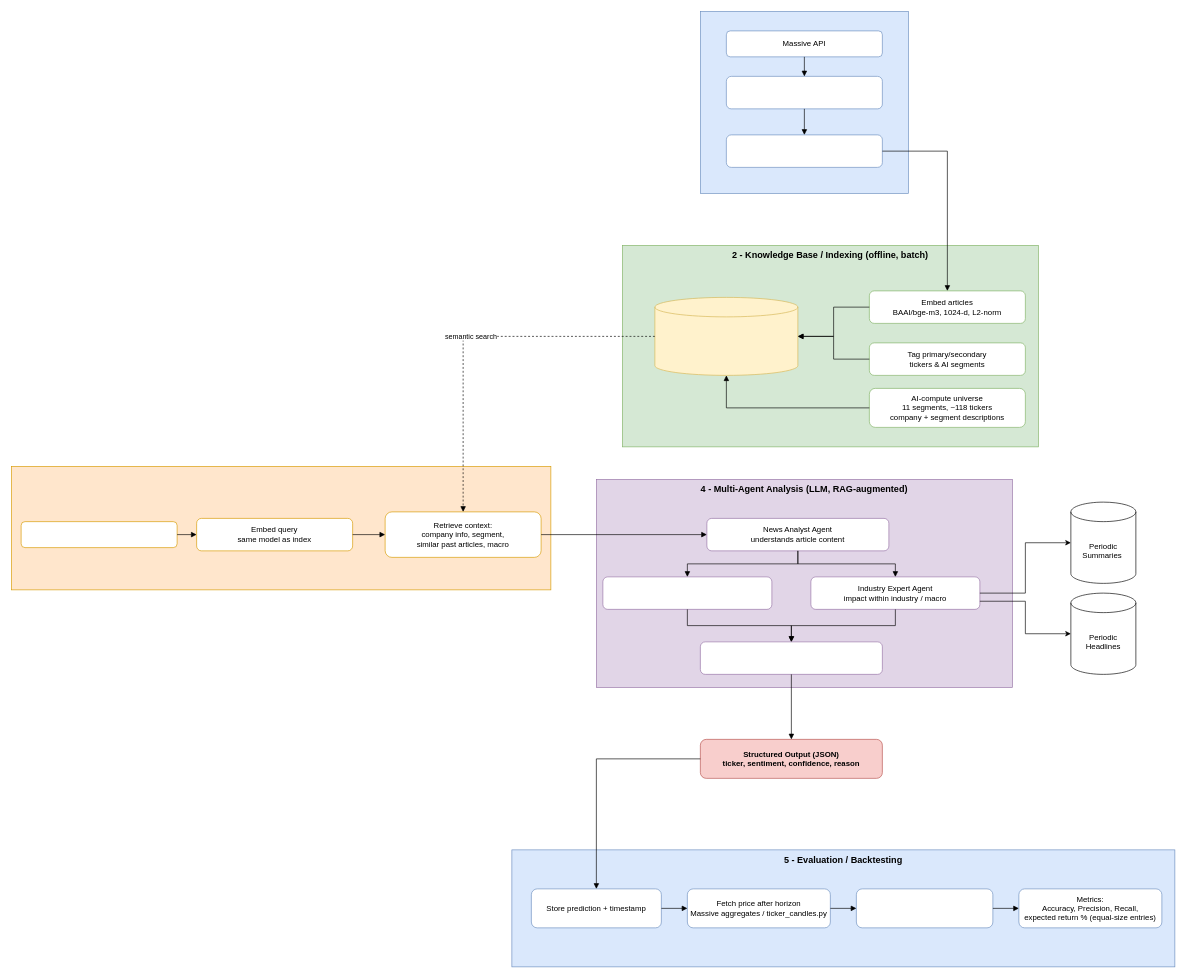
The diagram is 1186 pixels wide and 978 high, and some of its shapes have lost their labels. Here are the shapes that lost their labels. From the top down, the box of each, then its label:
(726, 76, 882, 109): News metadata CSV ticker, url, published_utc, sentiment
(700, 11, 908, 193): 1 - News Ingestion
(726, 134, 882, 167): Article scraper httpx first, Playwright fallback
(654, 297, 798, 375): Postgres + pgvector articles + embeddings + ticker_data HNSW cosine index
(20, 521, 177, 548): New incoming article
(11, 466, 551, 590): 3 - RAG Retrieval (per new article)
(602, 576, 772, 609): Segment Expert Agent impact within segment
(700, 641, 882, 674): Investment Committee Agent weighs analyses, final call
(856, 888, 993, 928): Compare prediction vs actual move
